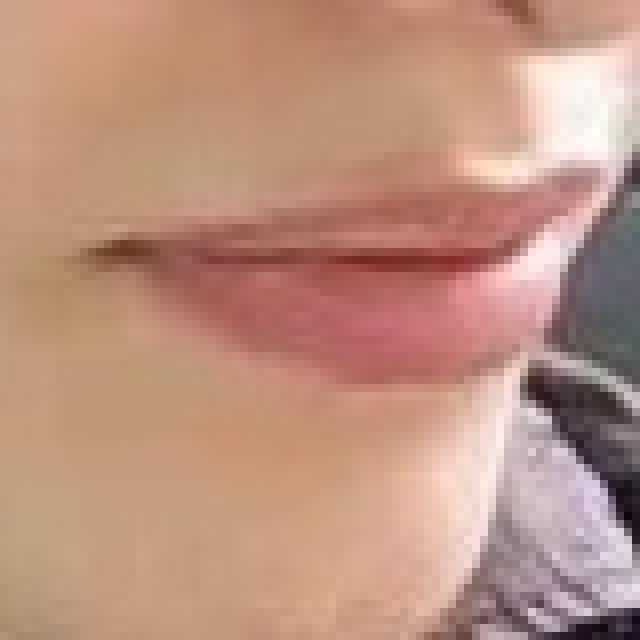closed-mouth: (72, 135, 608, 400)
